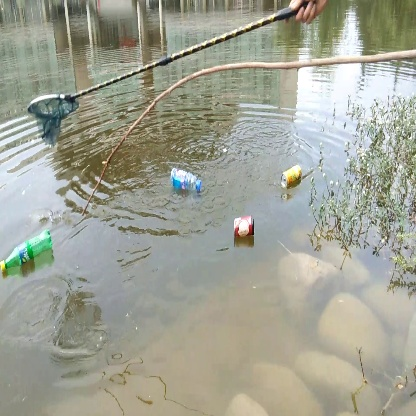bottle: (2, 231, 54, 273), (168, 165, 204, 191), (231, 213, 256, 241), (281, 163, 303, 192)
